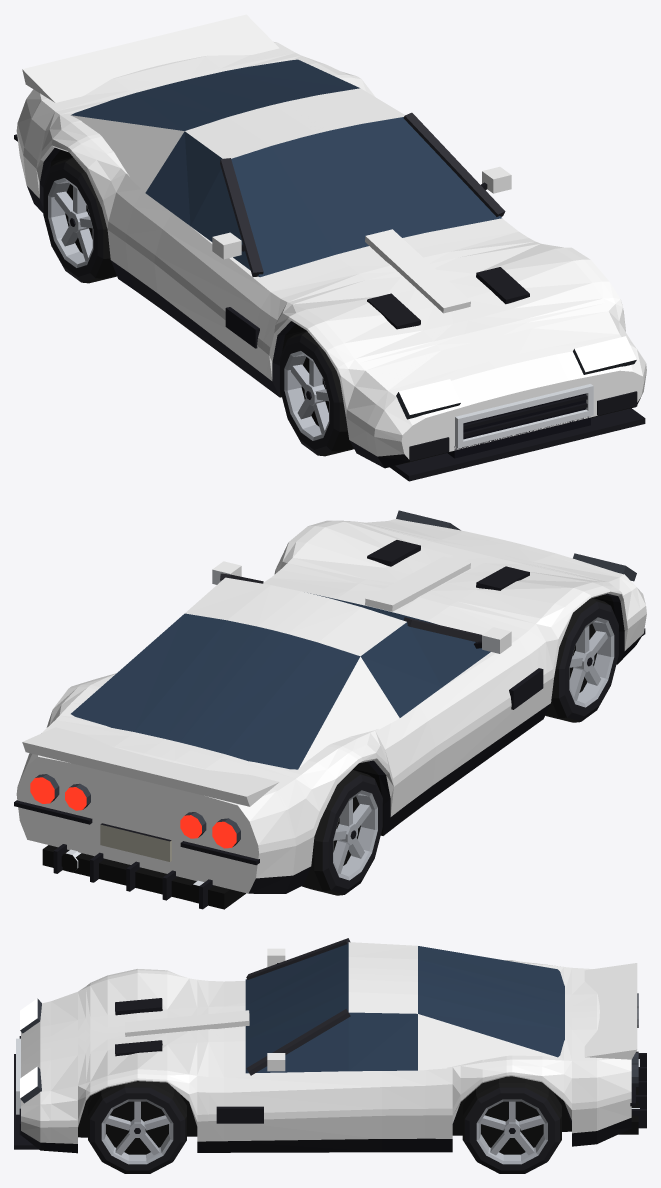
3 renders of one model, top to bottom at view 1: azimuth 30°, elevation 25°; view 2: azimuth 150°, elevation 25°; view 3: azimuth 270°, elevation 25°, orthographic. The views are drawn at different scales.
Visible parts, largest first — view 1: paint, glass, stripe_a, trim, tire_side (×2), trim_soft, stripe_b, rim (×2), part_18 (×2), headlight, chrome, trim_grille (+1 smaller); view 2: paint, glass, stripe_a, trim, tire_side (×2), trim_under, rim (×2), part_18 (×2), stripe_b, tire (×2), taillight, chrome_housing (+2 smaller); view 3: paint, glass, trim, stripe_a, tire_side (×2), trim_under (×3), stripe_b, tire (×2), part_18 (×2), rim (×2), trim_soft, chrome_housing (+2 smaller).
Part boxes in pixels (x1,y1,x2,y2): paint: [16, 14, 646, 459]; glass: [71, 59, 501, 277]; stripe_a: [114, 56, 568, 402]; trim: [14, 134, 645, 481]; tire_side (×2): [43, 162, 339, 455]; trim_soft: [220, 112, 505, 276]; stripe_b: [16, 123, 646, 441]; rim (×2): [48, 178, 329, 440]; part_18 (×2): [54, 186, 328, 434]; headlight: [399, 336, 636, 414]; chrome: [455, 384, 593, 448]; trim_grille: [447, 393, 590, 458]; paint: [16, 519, 646, 893]; glass: [71, 593, 490, 769]; stripe_a: [114, 531, 555, 769]; trim: [14, 540, 645, 909]; tire_side (×2): [322, 601, 618, 894]; trim_under: [42, 594, 617, 909]; rim (×2): [333, 617, 614, 880]; part_18 (×2): [333, 625, 607, 873]; stripe_b: [258, 543, 646, 853]; tire (×2): [302, 598, 610, 895]; taillight: [30, 777, 236, 848]; chrome_housing: [35, 510, 636, 846]; paint: [21, 942, 637, 1143]; glass: [245, 942, 564, 1073]; trim: [14, 963, 646, 1153]; stripe_a: [21, 957, 599, 1075]; tire_side (×2): [90, 1087, 559, 1173]; trim_under (×3): [78, 1051, 638, 1154]; stripe_b: [21, 1072, 631, 1127]; tire (×2): [88, 1076, 561, 1161]; part_18 (×2): [105, 1101, 544, 1155]; rim (×2): [101, 1099, 547, 1164]; trim_soft: [246, 938, 350, 1075]; chrome_housing: [20, 993, 638, 1103].
Bounding box in the file's own units: 1.93 × 1.18 × 4.56.
